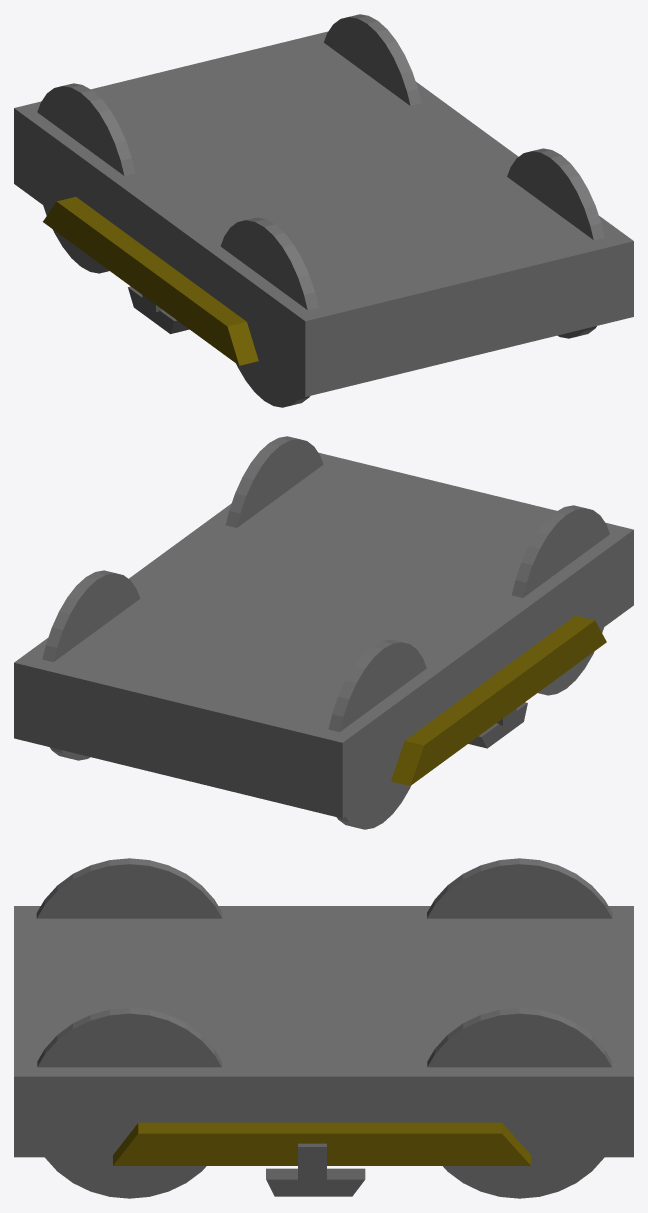
Rendered from sr-motor-bogie.dae.
The picture shows the model from 3 angles, top to bottom: view 1: azimuth 30°, elevation 25°; view 2: azimuth 150°, elevation 25°; view 3: azimuth 270°, elevation 25°; orthographic projection. The views are drawn at different scales.
Parts seen in each view (by area): view 1: Cube_042, Cube_046, Cylinder_002, Cylinder_003, Cylinder_001, Cylinder, Cube_062_002; view 2: Cube_042, Cube_046, Cylinder_003, Cylinder_002, Cylinder, Cylinder_001, Cube_062_002; view 3: Cube_042, Cube_049, Cylinder, Cylinder_001, Cylinder_002, Cylinder_003, Cube_062_005, Cube_063_005.
Part boxes in pixels (<box>): Cube_042: <box>14,31,633,396</box>; Cube_046: <box>43,197,258,365</box>; Cylinder_002: <box>220,217,318,407</box>; Cylinder_003: <box>37,83,135,273</box>; Cylinder_001: <box>507,148,604,338</box>; Cylinder: <box>324,14,421,105</box>; Cube_062_002: <box>128,286,189,333</box>; Cube_042: <box>14,452,633,818</box>; Cube_046: <box>391,615,606,785</box>; Cylinder_003: <box>328,639,426,829</box>; Cylinder_002: <box>512,505,609,695</box>; Cylinder: <box>42,570,140,760</box>; Cylinder_001: <box>226,436,323,527</box>; Cube_062_002: <box>468,702,527,748</box>; Cube_042: <box>14,906,633,1157</box>; Cube_049: <box>113,1122,531,1165</box>; Cylinder: <box>427,1007,611,1198</box>; Cylinder_001: <box>37,1007,221,1198</box>; Cylinder_002: <box>36,858,222,918</box>; Cylinder_003: <box>427,858,612,918</box>; Cube_062_005: <box>266,1168,365,1196</box>; Cube_063_005: <box>298,1143,326,1179</box>.
Size of the model in its own units: 1.79 by 2.4 by 0.7955.
